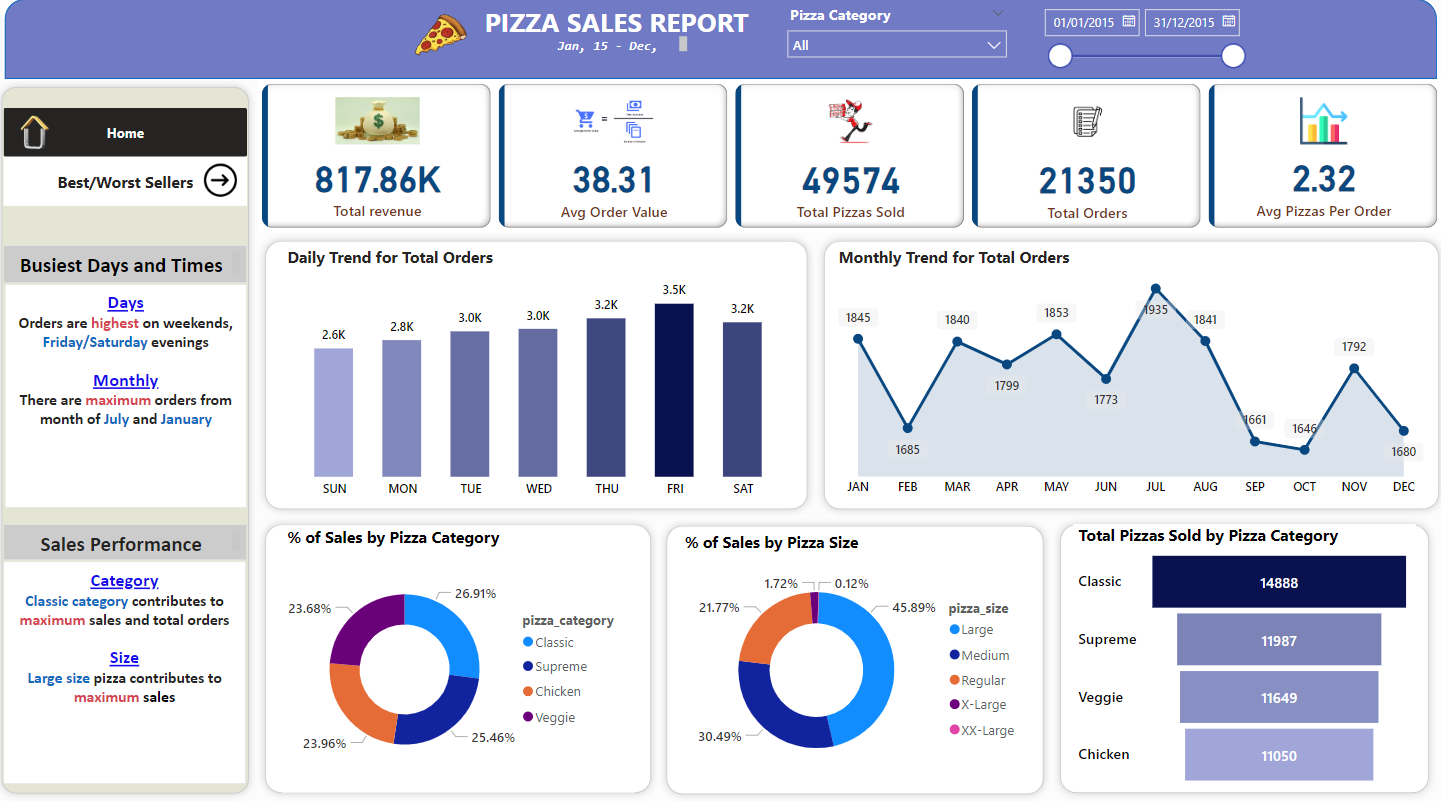

This screenshot's page, from the dashboard's own definition file:
{"tool":"powerbi","page":{"name":"Home","canvas":[1500,820],"ordinal":0},"visuals":[{"type":"shape","box":[12.9,81.4,267.1,732.9],"z":0},{"type":"cardVisual","fields":{"Data":["pizza_sales.Total revenue","pizza_sales.Avg Order Value","pizza_sales.Total Pizzas Sold","pizza_sales.Total Orders","pizza_sales.Avg Pizzas Per Order"]},"box":[280,81.2,1206.2,156.2],"z":1000},{"type":"shape","box":[23.8,0,1452.5,81.2],"z":2000},{"type":"textbox","box":[506.2,0,287.7,48.1],"z":3000},{"type":"textbox","box":[579,33.3,142,33.3],"z":4000},{"type":"image","box":[425.9,0,80.2,72.8],"z":5000},{"type":"shape","box":[280,237.5,566.2,288.8],"z":6000},{"type":"columnChart","title":"Daily Trend for Total Orders","fields":{"Category":["pizza_sales.Order Day"],"Y":["pizza_sales.Total Orders"]},"box":[305,250,521.2,265],"z":7000},{"type":"shape","box":[846.2,237.5,640,288.8],"z":8000},{"type":"areaChart","title":"Monthly Trend for Total Orders","fields":{"Y":["pizza_sales.Total Orders"],"Category":["pizza_sales.Order Month"]},"box":[865,250,603.8,263.8],"z":9000},{"type":"shape","box":[280,525,407.5,288.8],"z":10000},{"type":"shape","box":[687.5,526.2,398.8,288.8],"z":11000},{"type":"shape","box":[1086.2,525,390,288.8],"z":12000},{"type":"donutChart","title":"% of Sales by Pizza Category","fields":{"Category":["pizza_sales.pizza_category"],"Y":["pizza_sales.Total revenue"]},"box":[305,533.8,357.5,271.2],"z":13000},{"type":"donutChart","title":"% of Sales by Pizza Size","fields":{"Y":["pizza_sales.Total revenue"],"Category":["pizza_sales.pizza_size"]},"box":[708.8,538.8,357.5,262.5],"z":14000},{"type":"funnel","title":"Total Pizzas Sold by Pizza Category","fields":{"Category":["pizza_sales.pizza_category"],"Y":["pizza_sales.Total Pizzas Sold"]},"box":[1107.5,532.5,347.5,271.2],"z":15000},{"type":"textbox","box":[22.9,250,247.1,38.6],"z":16000},{"type":"textbox","box":[24.3,288.6,245.7,227.1],"z":17000},{"type":"textbox","box":[22.9,532.9,247.1,37.1],"z":18000},{"type":"textbox","box":[22.9,570,245.7,225.7],"z":19000},{"type":"slicer","fields":{"Values":["pizza_sales.pizza_category"]},"box":[807.5,0,242.5,63.8],"z":20000},{"type":"slicer","fields":{"Values":["pizza_sales.order_date"]},"box":[1066.2,0,225,72.5],"z":21000},{"type":"pageNavigator","box":[22.9,110,247.1,50],"z":21001},{"type":"pageNavigator","box":[22.9,160,247.1,50],"z":21002},{"type":"image","box":[218.6,160,50,48.6],"z":21003},{"type":"image","box":[24.3,110,61.4,50],"z":21004}]}

Visuals, with their boxes in screenshot pixels (x1, y1, x2, y2), scaled from the page's 1500x820 canvas onto the 1441x801 screenshot:
shape: l=12, t=80, r=269, b=795
cardVisual - pizza_sales.Total revenue x pizza_sales.Avg Order Value: l=269, t=79, r=1428, b=232
shape: l=23, t=0, r=1418, b=79
textbox: l=486, t=0, r=763, b=47
textbox: l=556, t=33, r=693, b=65
image: l=409, t=0, r=486, b=71
shape: l=269, t=232, r=813, b=514
"Daily Trend for Total Orders" columnChart: l=293, t=244, r=794, b=503
shape: l=813, t=232, r=1428, b=514
"Monthly Trend for Total Orders" areaChart: l=831, t=244, r=1411, b=502
shape: l=269, t=513, r=660, b=795
shape: l=660, t=514, r=1044, b=796
shape: l=1043, t=513, r=1418, b=795
"% of Sales by Pizza Category" donutChart: l=293, t=521, r=636, b=786
"% of Sales by Pizza Size" donutChart: l=681, t=526, r=1024, b=783
"Total Pizzas Sold by Pizza Category" funnel: l=1064, t=520, r=1398, b=785
textbox: l=22, t=244, r=259, b=282
textbox: l=23, t=282, r=259, b=504
textbox: l=22, t=521, r=259, b=557
textbox: l=22, t=557, r=258, b=777
slicer - pizza_sales.pizza_category: l=776, t=0, r=1009, b=62
slicer - pizza_sales.order_date: l=1024, t=0, r=1240, b=71
pageNavigator: l=22, t=107, r=259, b=156
pageNavigator: l=22, t=156, r=259, b=205
image: l=210, t=156, r=258, b=204
image: l=23, t=107, r=82, b=156
